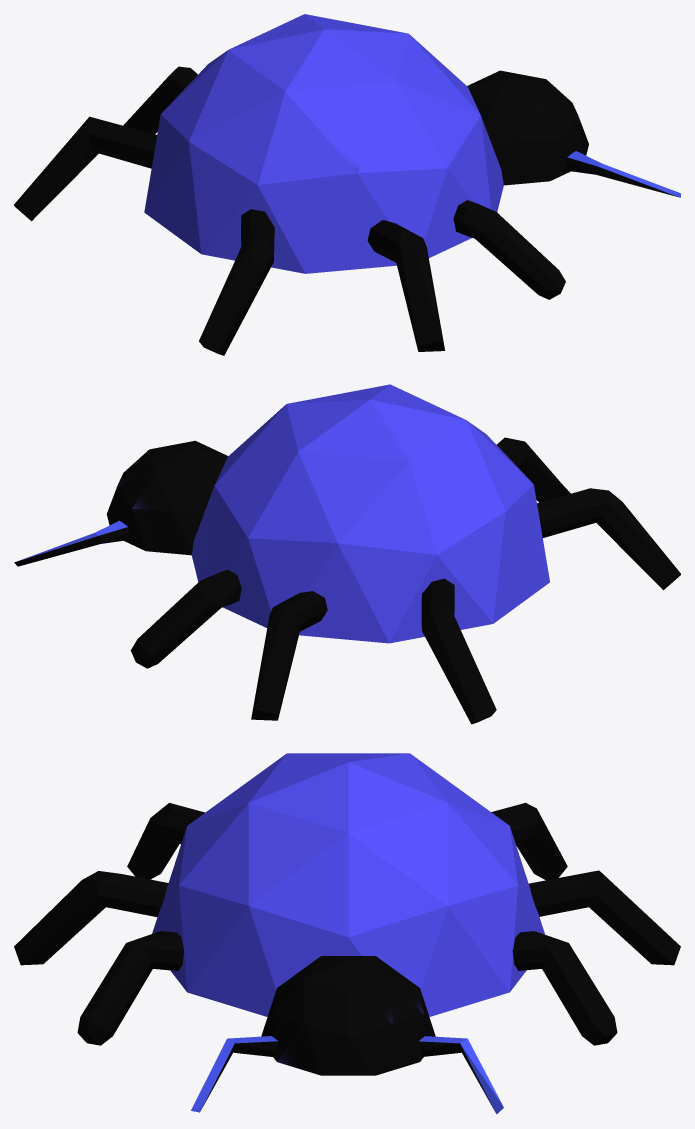
Rendered from Bug.fbx.
3 views of the same model, one above another, from view 1: azimuth 30°, elevation 25°; view 2: azimuth 150°, elevation 25°; view 3: azimuth 270°, elevation 25° (orthographic). The views are drawn at different scales.
Parts seen in each view (by area): view 1: Куб.003; view 2: Куб.003; view 3: Куб.003.
Part boxes in pixels (x1,y1,x2,y2): Куб.003: [14, 14, 680, 355]; Куб.003: [14, 384, 680, 724]; Куб.003: [14, 753, 680, 1114].
Size of the model in its own units: 317 by 125 by 335.
Materials: 1 (1 with a texture image).
